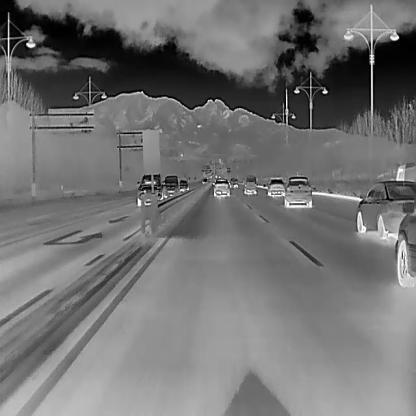car: (355, 179, 415, 239), (394, 202, 415, 287), (136, 172, 165, 206), (283, 176, 312, 207), (396, 160, 416, 182), (161, 174, 178, 197), (266, 176, 285, 196), (212, 176, 230, 197), (243, 173, 257, 194), (178, 178, 189, 192), (228, 176, 238, 188), (201, 177, 208, 185)
